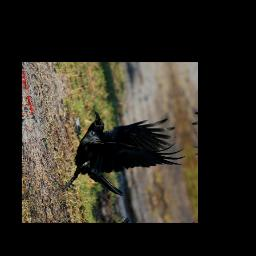Crow: (44, 94, 192, 209)
